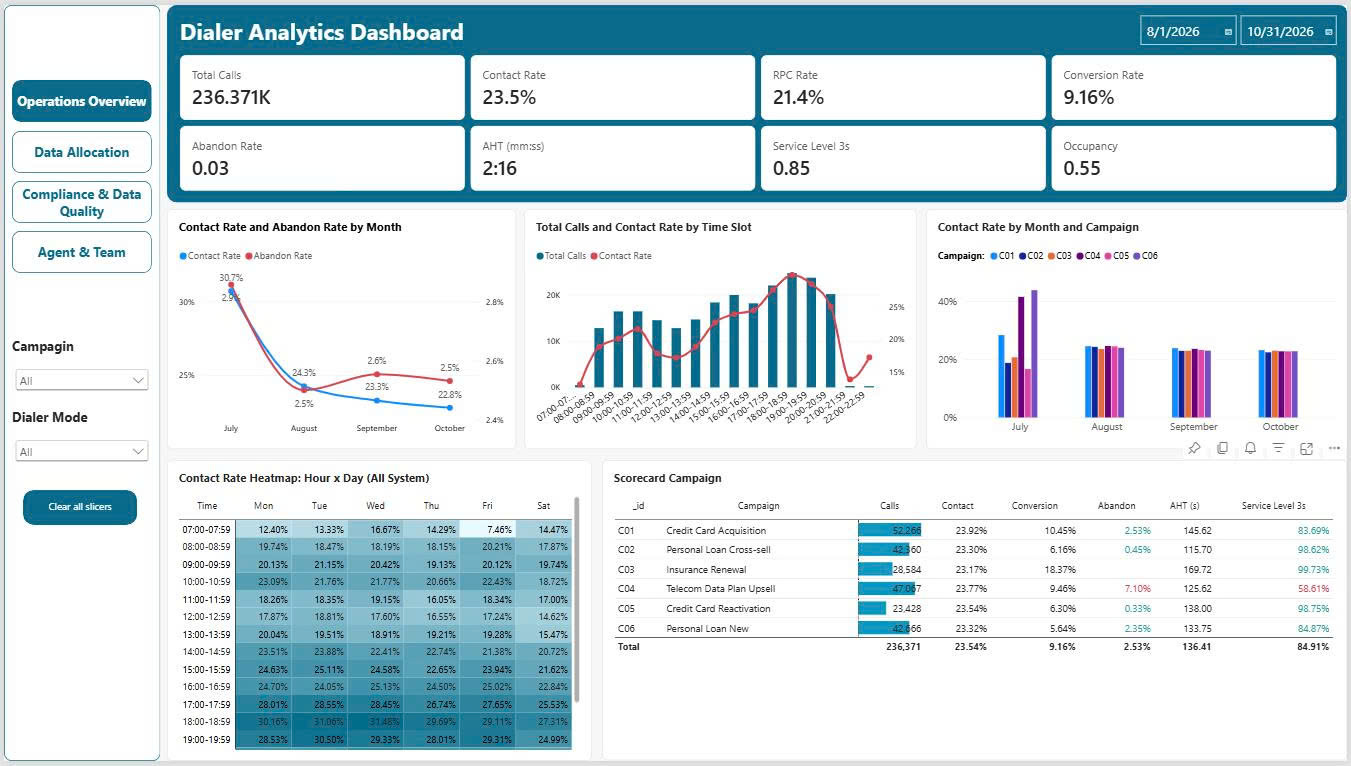

The page's visual inventory and layout, read from the dashboard file:
{"tool":"powerbi","page":{"name":"Operation Overview","canvas":[1920,1080],"ordinal":0},"visuals":[{"type":"shape","box":[0,0,223.4,1080],"z":0},{"type":"shape","box":[12,107.7,199.5,59.9],"z":1000},{"type":"shape","box":[12,179.6,199.5,59.9],"z":2000},{"type":"shape","box":[12,251.4,199.5,59.9],"z":3000},{"type":"shape","box":[12,323.2,199.5,59.9],"z":4000},{"type":"shape","box":[232.8,0,1687.8,282],"z":5000},{"type":"cardVisual","fields":{"Data":["_Measures.Total Calls","_Measures.Contact Rate","_Measures.RPC Rate","_Measures.Conversion Rate","_Measures.Abandon Rate","_Measures.AHT (mm:ss)","_Measures.Service Level 3s","_Measures.Occupancy"]},"box":[251.4,71.8,1653.3,195.5],"z":6000},{"type":"textbox","title":"Dialer Analytics Dashboard","box":[251.4,14.6,437.6,42.6],"z":7000},{"type":"slicer","fields":{"Values":["dw dim_date.full_date"]},"box":[1616,9.3,300.6,57.2],"z":8000},{"type":"lineChart","fields":{"Category":["dw dim_date.week_start_date.Variation.Date Hierarchy.Month"],"Y":["_Measures.Contact Rate"],"Y2":["_Measures.Abandon Rate"]},"box":[232.8,291.3,498.8,343.2],"z":9000},{"type":"lineClusteredColumnComboChart","title":"Total Calls and Contact Rate by Time Slot","fields":{"Category":["dw dim_hour.hour_label"],"Y":["_Measures.Total Calls"],"Y2":["_Measures.Contact Rate"]},"box":[742.2,291.3,561.3,343.2],"z":10000},{"type":"clusteredColumnChart","title":"Contact Rate by Month and Campaign","fields":{"Category":["dw dim_date.week_start_date.Variation.Date Hierarchy.Month"],"Series":["dw dim_campaign.campaign_id"],"Y":["_Measures.Contact Rate"]},"box":[1316.7,291.3,603.8,343.2],"z":11000},{"type":"pivotTable","title":"Contact Rate Heatmap: Hour x Day (All System)","fields":{"Columns":["dw dim_date.day_name"],"Rows":["dw dim_hour.hour_label"],"Values":["_Measures.Contact Rate"]},"box":[232.8,650.4,606.5,429.6],"z":12000},{"type":"tableEx","title":"Scorecard Campaign","fields":{"Values":["dw dim_campaign.campaign_id","dw dim_campaign.campaign_name","_Measures.Total Calls","_Measures.Contact Rate","_Measures.Conversion Rate","_Measures.Abandon Rate","_Measures.AHT (sec)","_Measures.Service Level 3s"]},"box":[854.2,650.1,1065.8,429.4],"z":13000},{"type":"slicer","title":"Campagin","fields":{"Values":["dw dim_campaign.campaign_name"]},"box":[12.1,474.7,199.6,89.2],"z":14000},{"type":"slicer","title":"Dialer Mode","fields":{"Values":["dw dim_campaign.dialer_mode"]},"box":[12.1,576,199.6,90.7],"z":15000},{"type":"actionButton","box":[27.2,692.4,163.3,49.9],"z":16000}]}

Visuals, with their boxes on the page's 1920x1080 design canvas (x1, y1, x2, y2). These are canvas units, not pixel positions in the 1351x766 screenshot, which may show the page scaled, cropped or inside an application window:
shape: 0 0 223 1080
shape: 12 108 212 168
shape: 12 180 212 240
shape: 12 251 212 311
shape: 12 323 212 383
shape: 233 0 1921 282
cardVisual - _Measures.Total Calls x _Measures.Contact Rate: 251 72 1905 267
"Dialer Analytics Dashboard" textbox: 251 15 689 57
slicer - dw dim_date.full_date: 1616 9 1917 66
lineChart - dw dim_date.week_start_date.Variation.Date Hierarchy.Month x _Measures.Contact Rate: 233 291 732 634
"Total Calls and Contact Rate by Time Slot" lineClusteredColumnComboChart: 742 291 1304 634
"Contact Rate by Month and Campaign" clusteredColumnChart: 1317 291 1920 634
"Contact Rate Heatmap: Hour x Day (All System)" pivotTable: 233 650 839 1080
"Scorecard Campaign" tableEx: 854 650 1920 1080
"Campagin" slicer: 12 475 212 564
"Dialer Mode" slicer: 12 576 212 667
actionButton: 27 692 190 742
